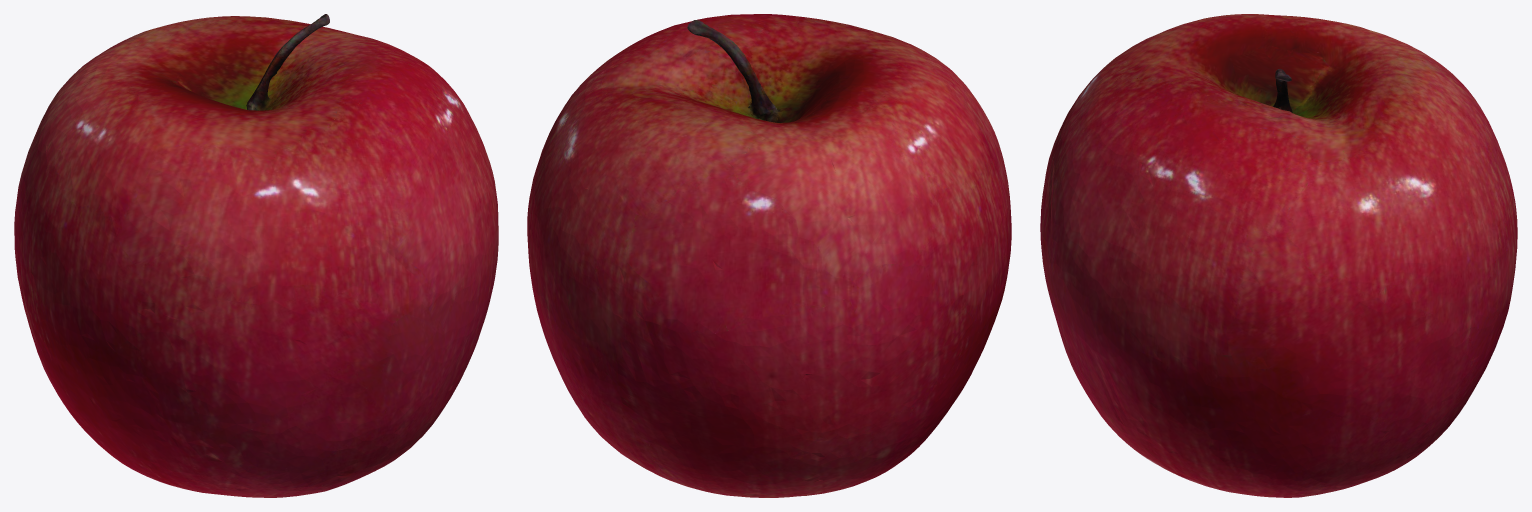
Rendered from Scan.obj.
3 renders of one model, left to right at view 1: azimuth 30°, elevation 25°; view 2: azimuth 150°, elevation 25°; view 3: azimuth 270°, elevation 25°, orthographic. The views are drawn at different scales.
Parts seen in each view (by area): view 1: Scan; view 2: Scan; view 3: Scan.
Part boxes in pixels (bbox=[...]): Scan: bbox=[14, 14, 498, 497]; Scan: bbox=[527, 14, 1011, 497]; Scan: bbox=[1040, 14, 1517, 497].
Size of the model in its own units: 0.0794 by 0.0754 by 0.0789.
1 material, 1 textured.
